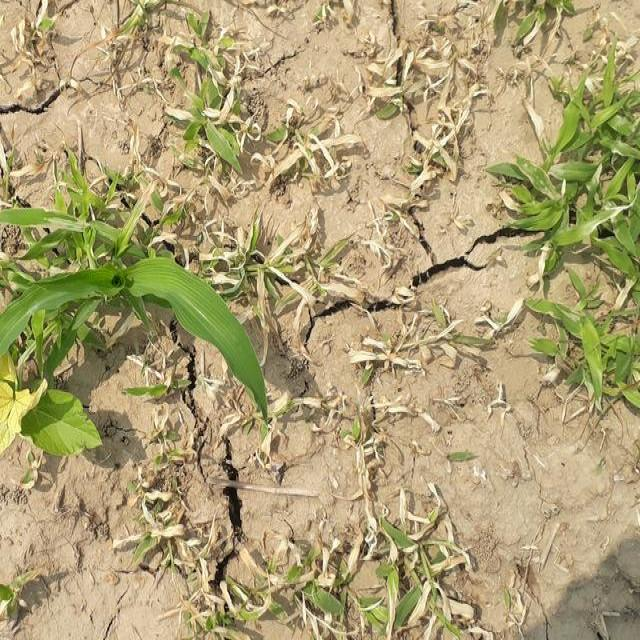weed: (500, 68, 640, 397)
